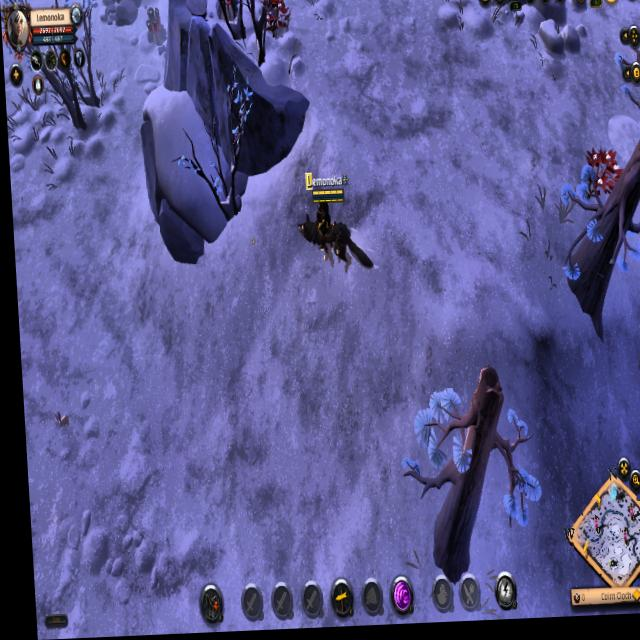fiber tier 5: (584, 147, 621, 206), (259, 0, 290, 41)
